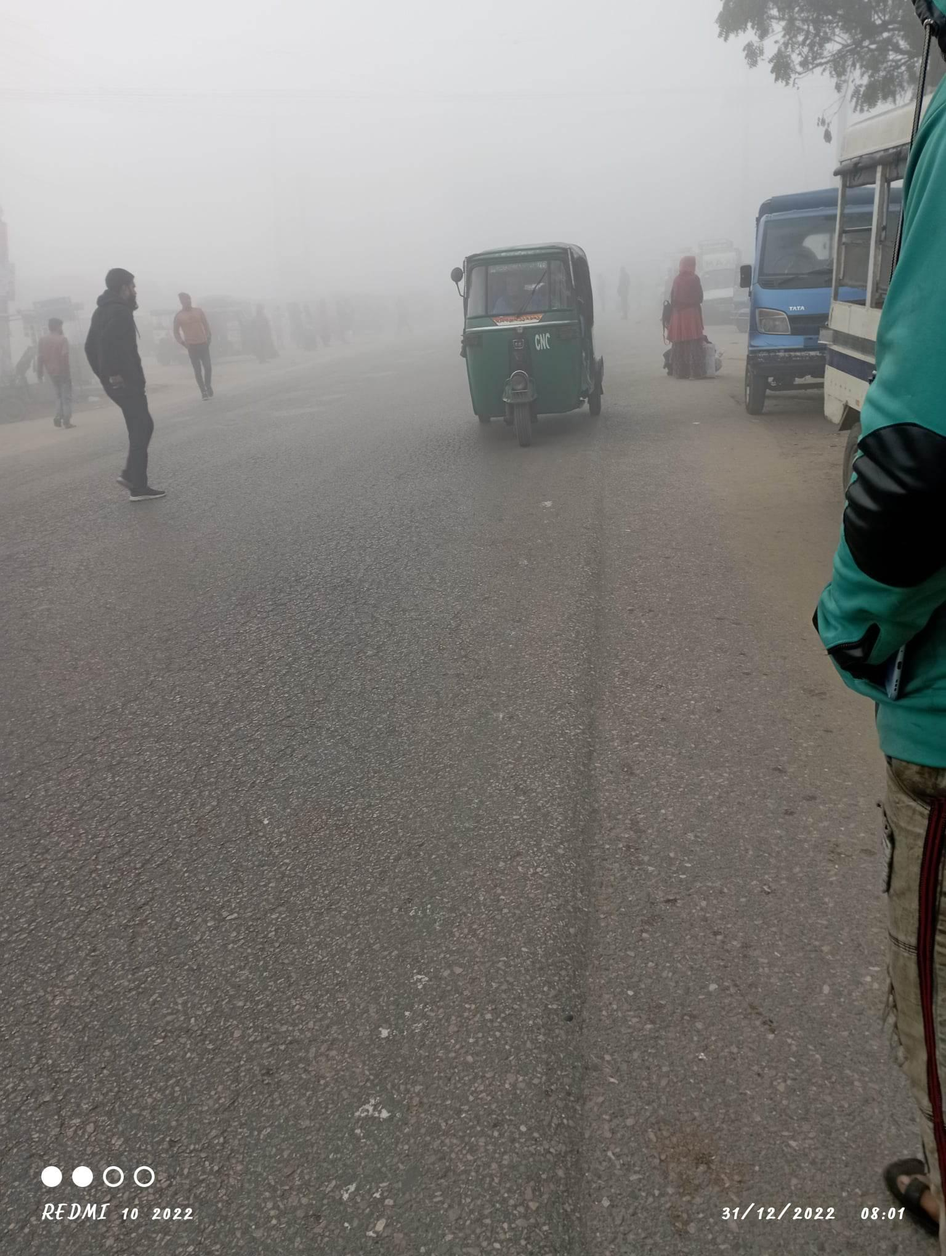Truck: (734, 168, 846, 446)
